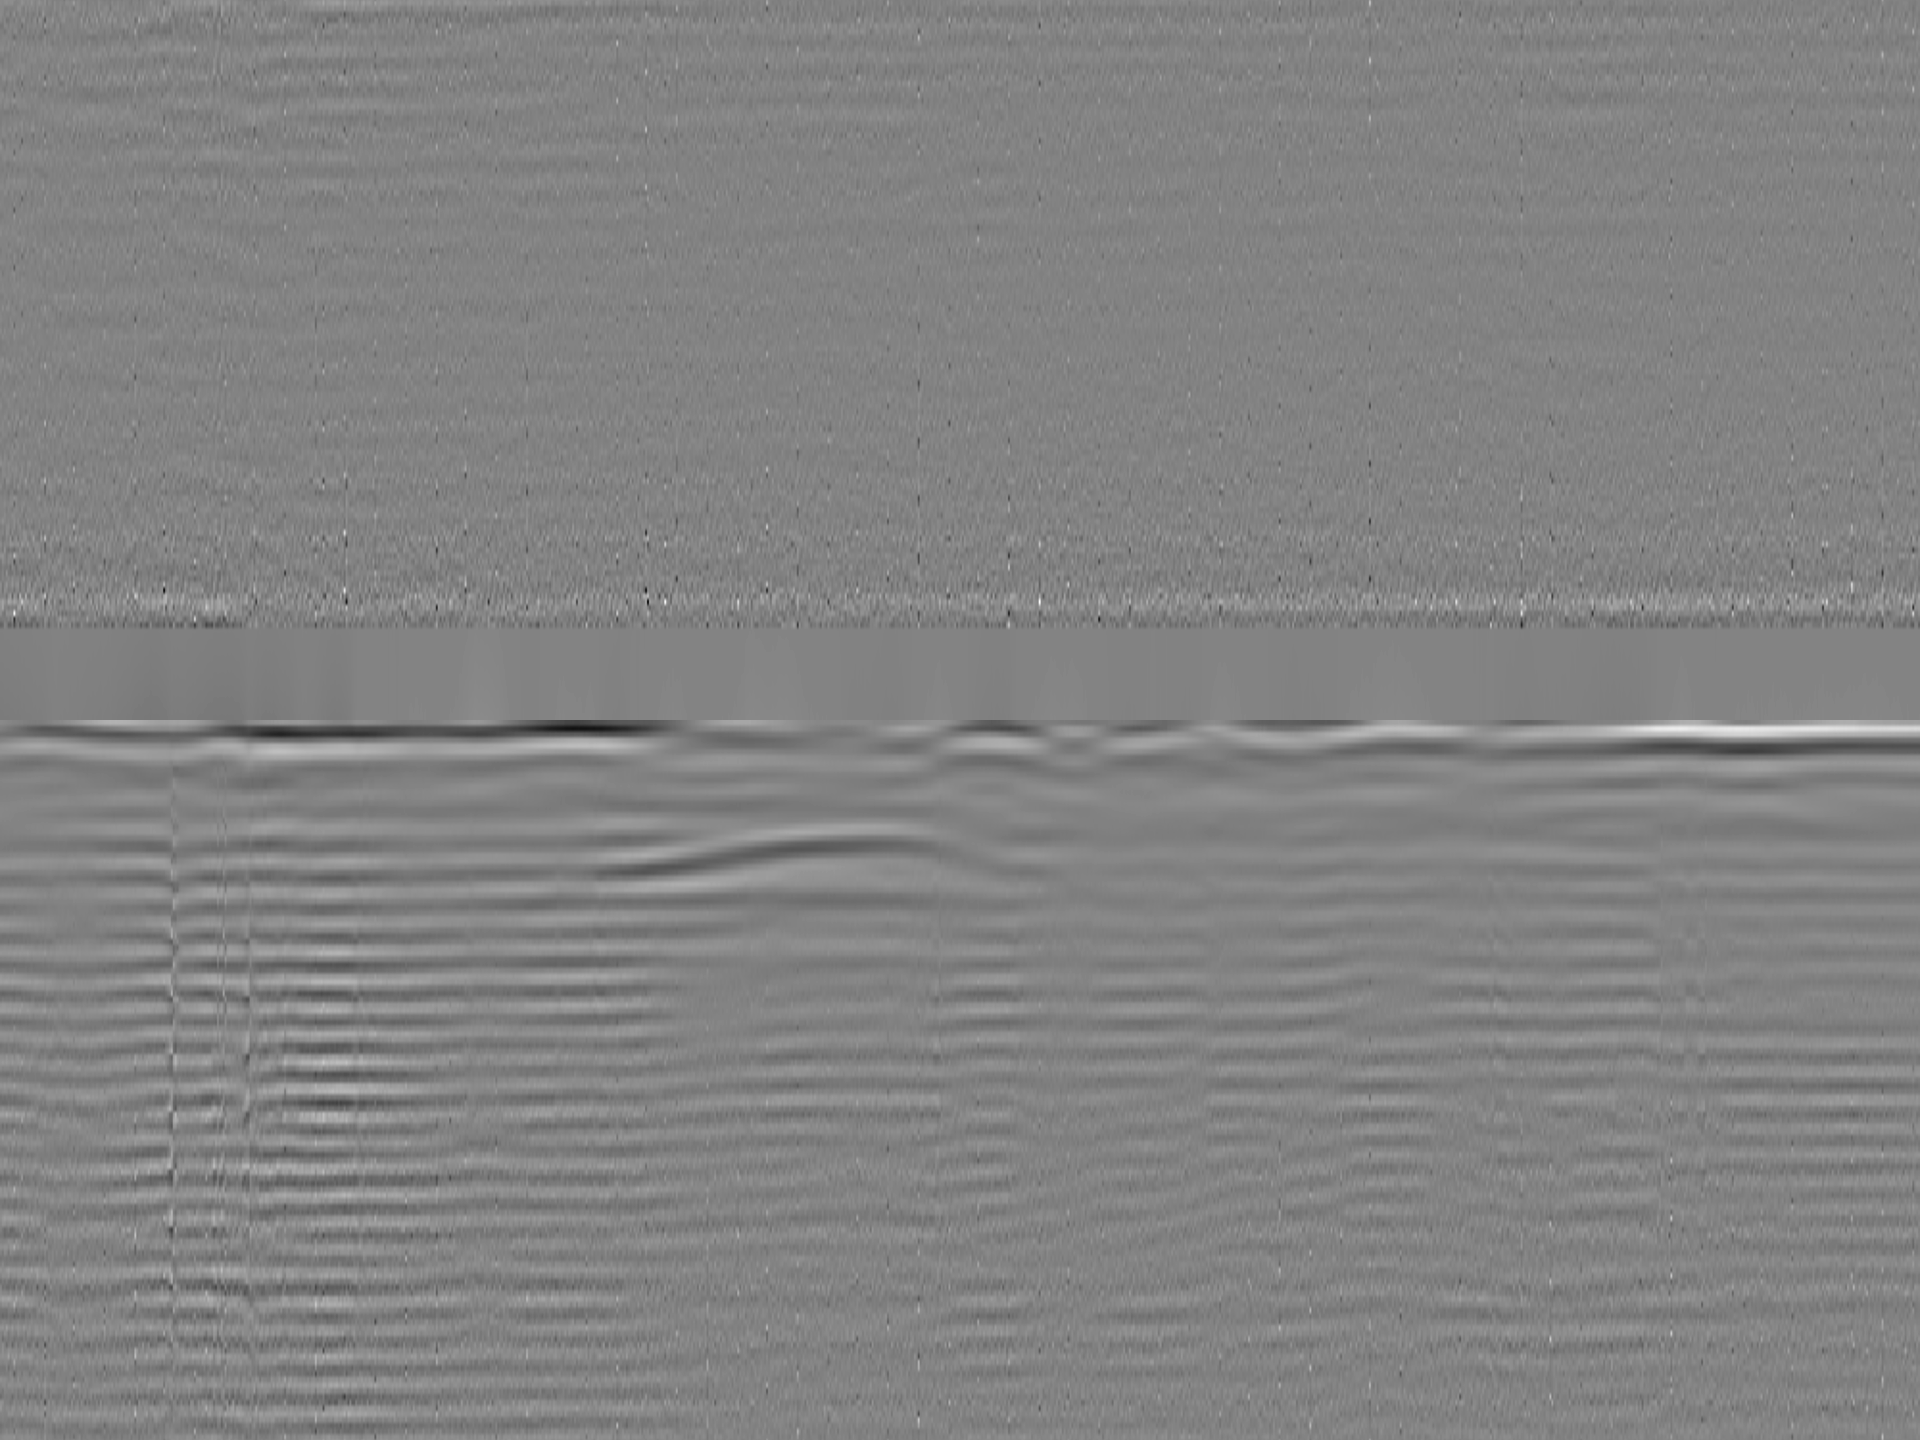Tunnel: (591, 824, 1057, 905)
